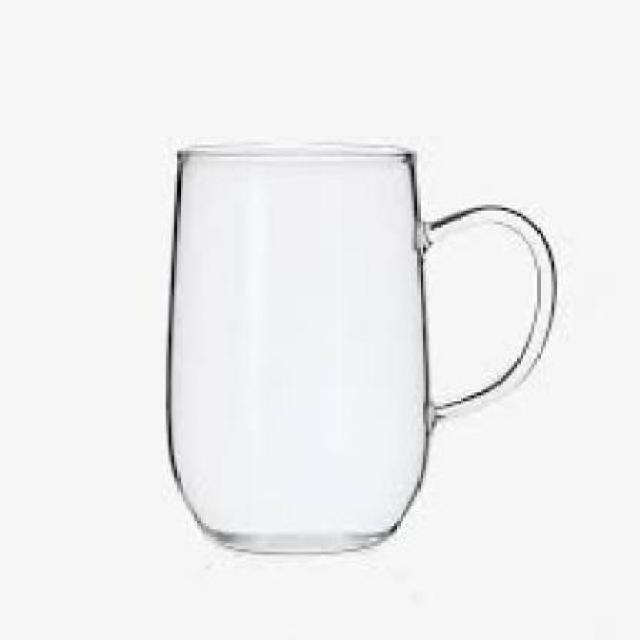kaca: (166, 148, 551, 549)
